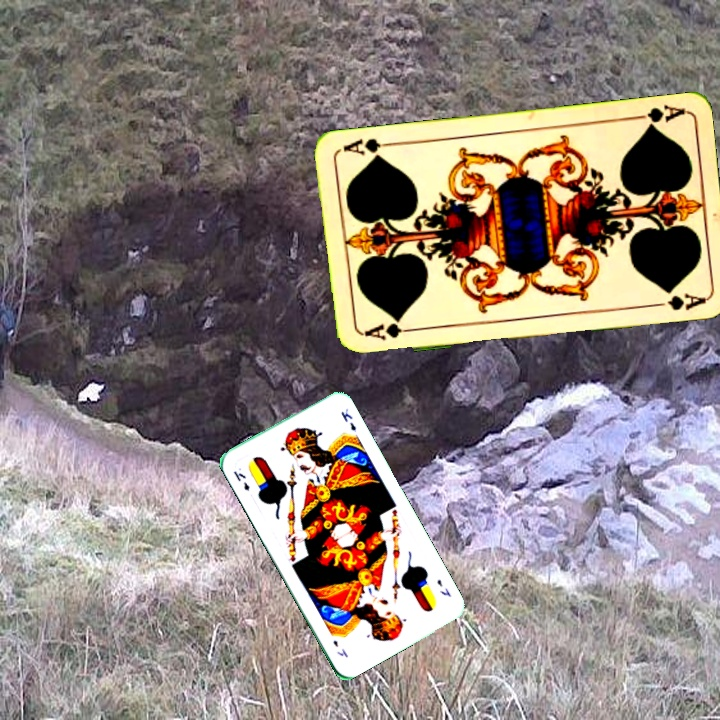EK: (229, 467, 252, 493), (433, 575, 453, 600)
GA: (627, 101, 686, 131), (358, 317, 417, 343)
